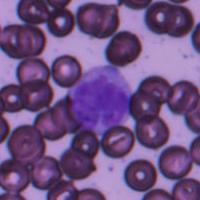M: (66, 64, 132, 134)
